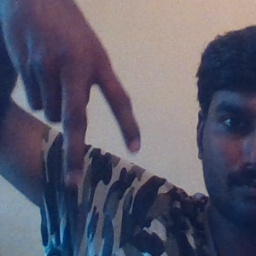Y: (16, 14, 146, 191)
